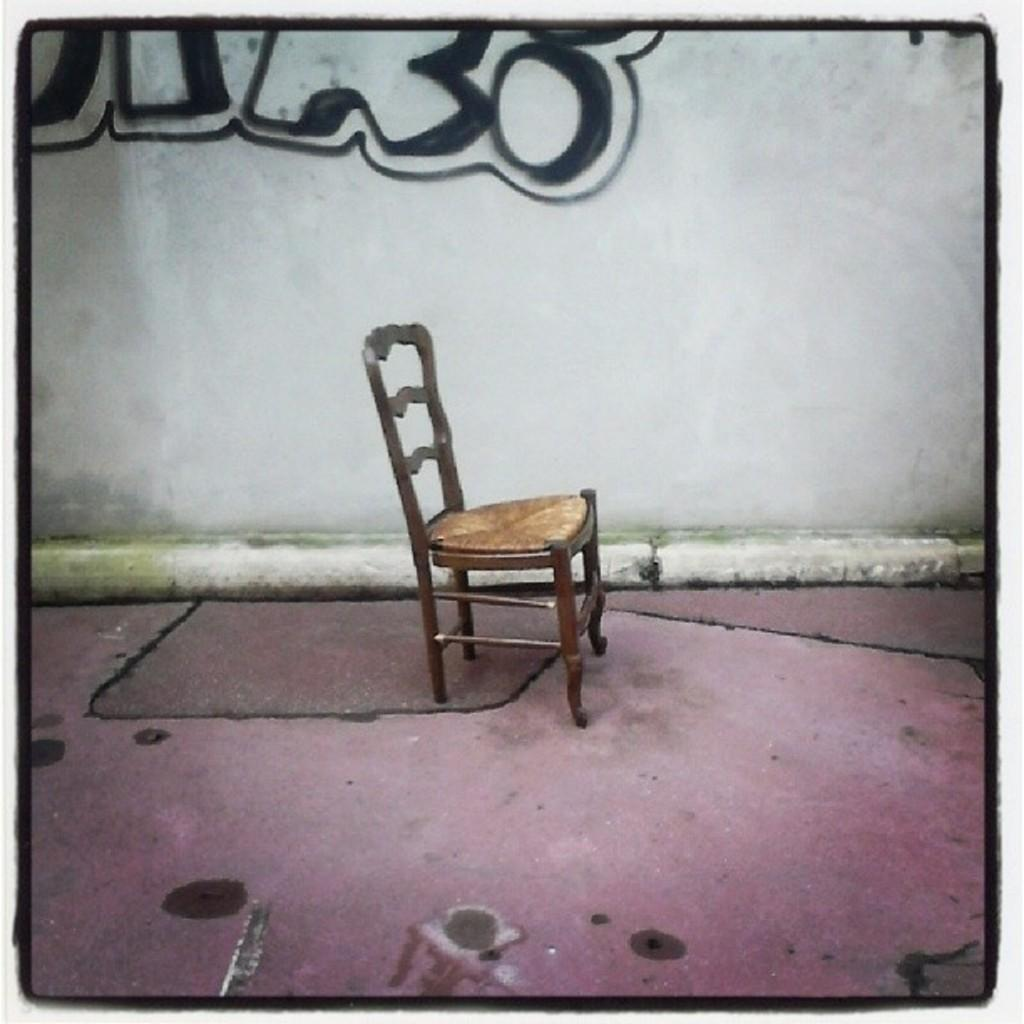Chair: (361, 315, 606, 718)
